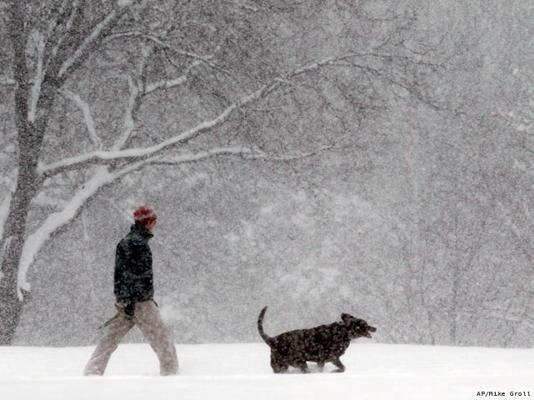person: (83, 204, 181, 379)
